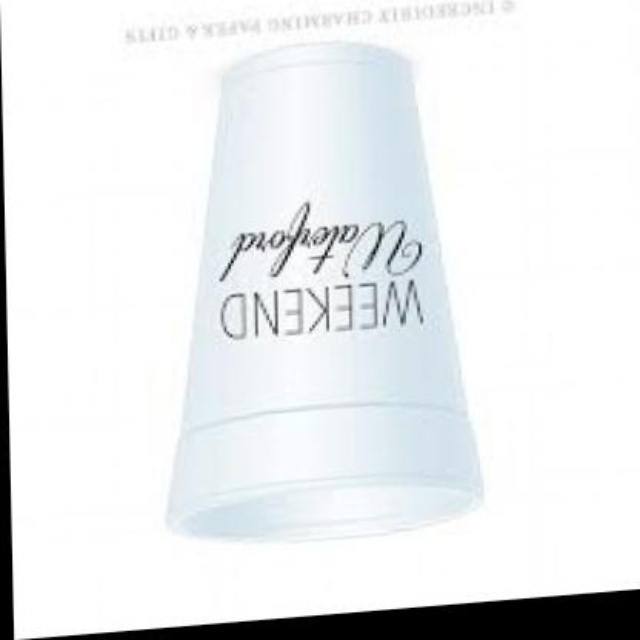trash: (168, 43, 480, 538)
